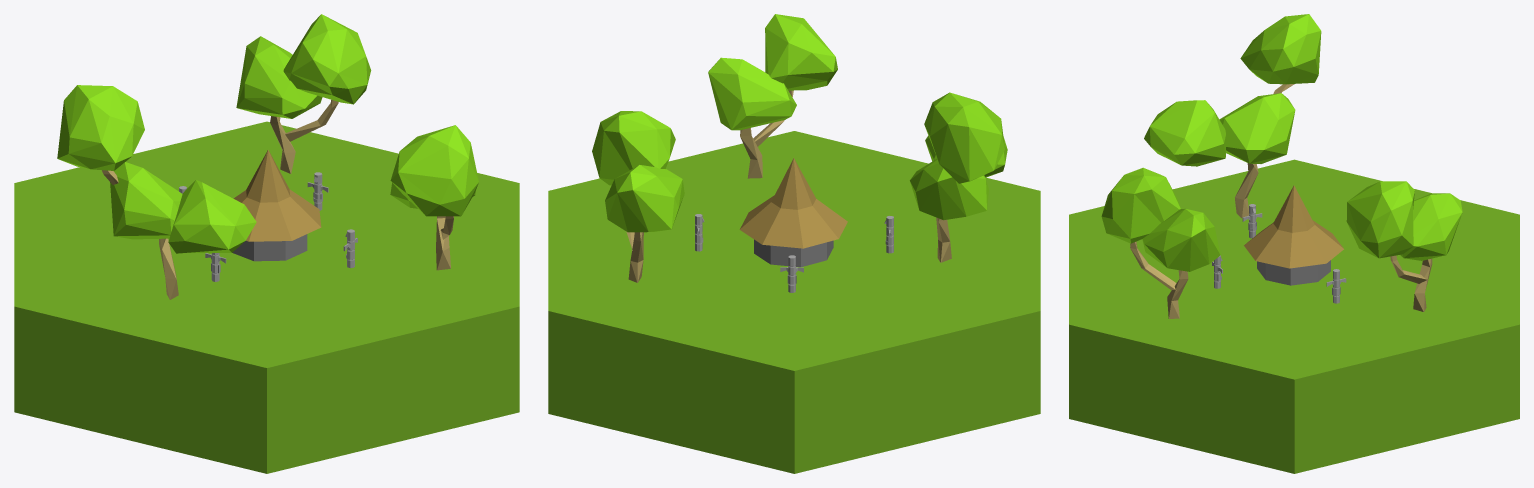
Rendered from Pequeño_Asentamiento_2.fbx.
3 views of the same model, side by side, from view 1: azimuth 30°, elevation 25°; view 2: azimuth 150°, elevation 25°; view 3: azimuth 270°, elevation 25° (orthographic). The views are drawn at different scales.
Parts seen in each view (by area): view 1: Pequeño_asentamiento_2; view 2: Pequeño_asentamiento_2; view 3: Pequeño_asentamiento_2.
Boxes of the visible parts, box(x1,y1,x2,y2) form: Pequeño_asentamiento_2: box(14, 14, 519, 473); Pequeño_asentamiento_2: box(548, 14, 1040, 473); Pequeño_asentamiento_2: box(1069, 14, 1519, 473).
Bounding box in the file's own units: 200 × 115 × 173.
1 material, 1 textured.
